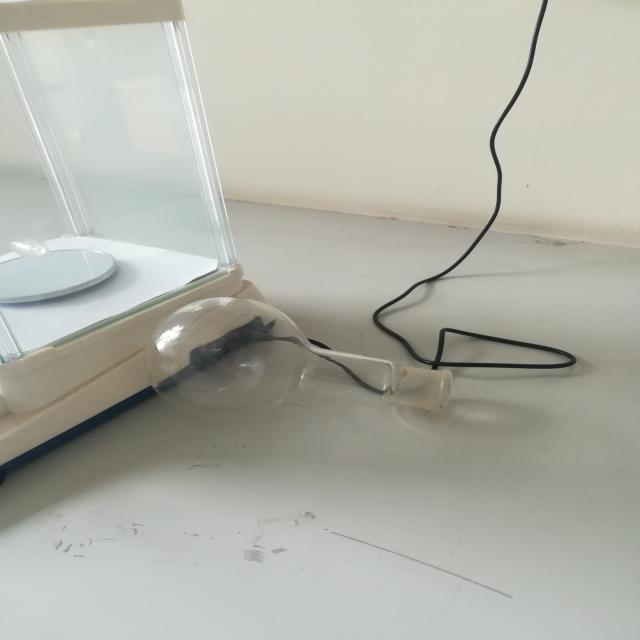Round_Bottom_Flask_Borosilicate_Glass_1_Neck: (134, 241, 476, 476)
